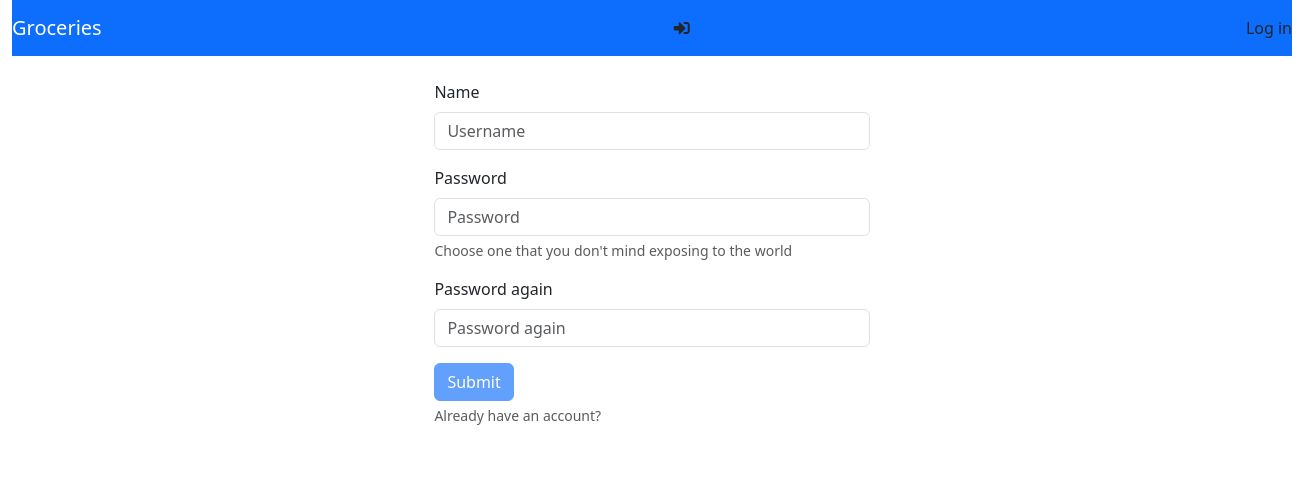
Test case: Signup › Signup shows error, when not matching passwords are submitted
Type "username" into the field with placeholder "Username" at [652, 131], box [434,112,870,150]
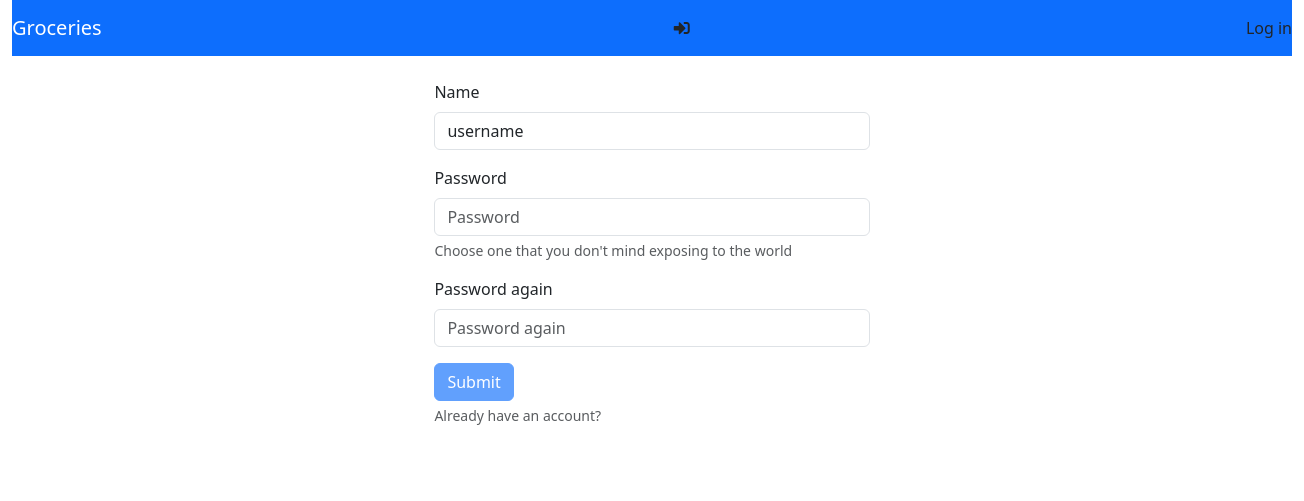
Type "password" into the field with placeholder "Password" at [652, 217], box [434,198,870,236]
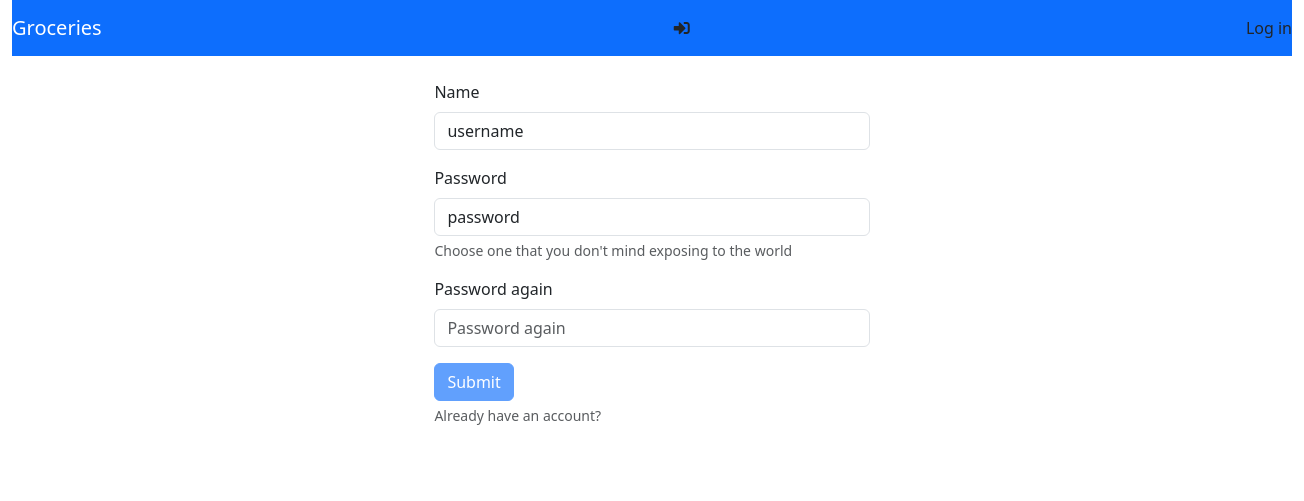
Type "other_password" into the field with placeholder "Password again" at [652, 328], box [434,309,870,347]
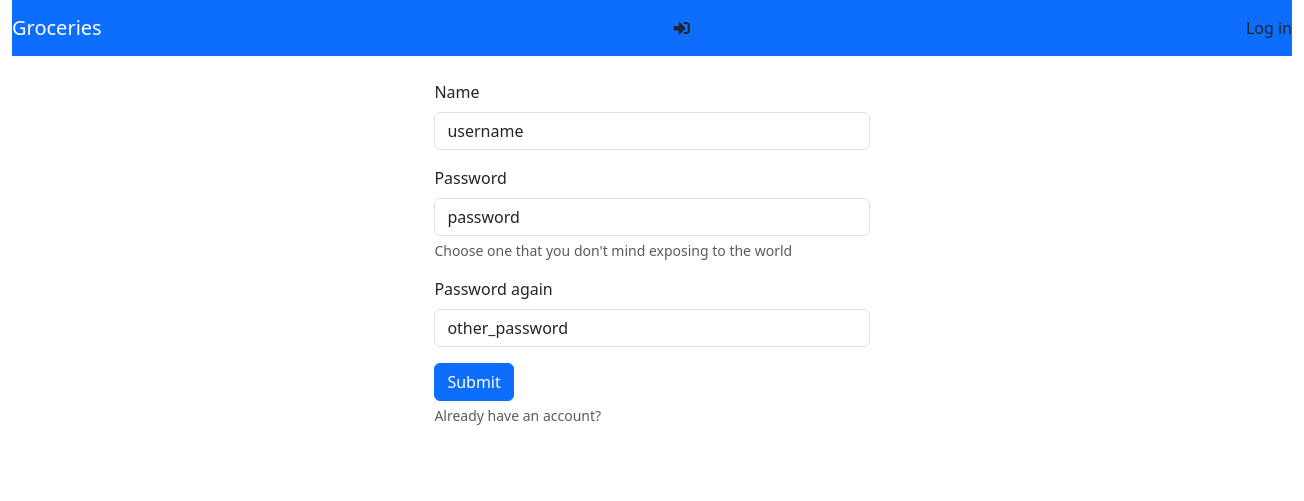
Click the button "Submit" at [474, 382], box [434,363,514,401]
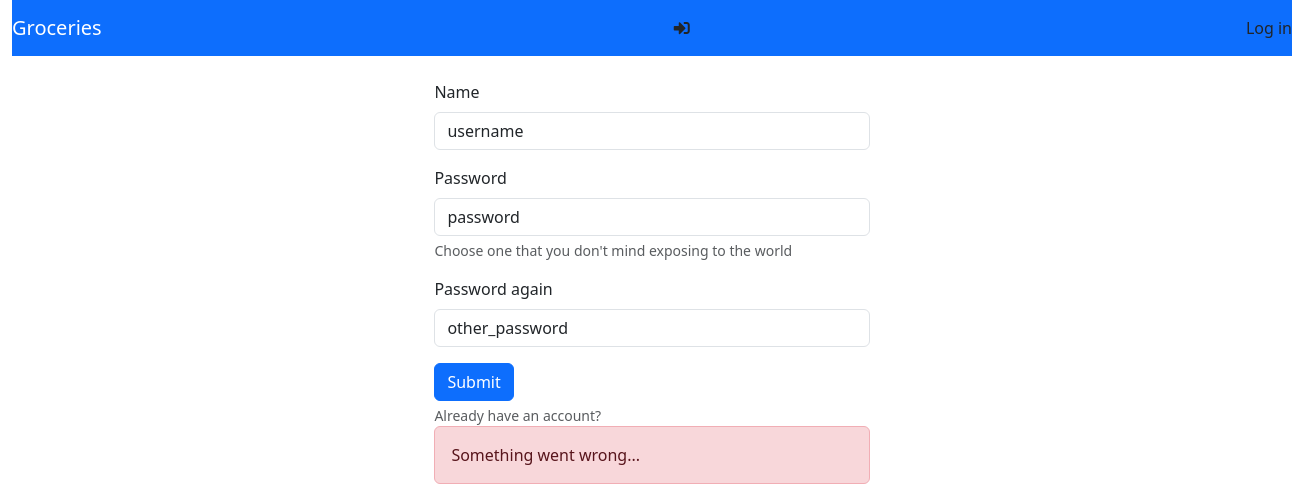
Now the text "Something went wrong..." is shown, box [434,426,870,484]
